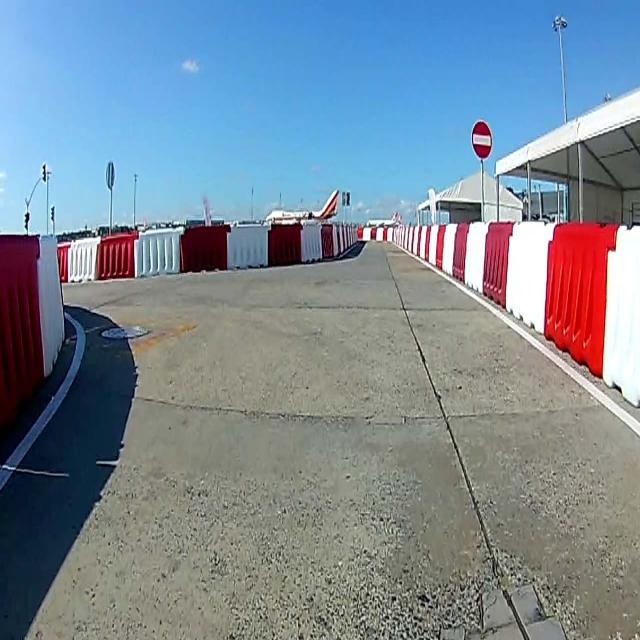girisyok: (470, 119, 492, 161)
